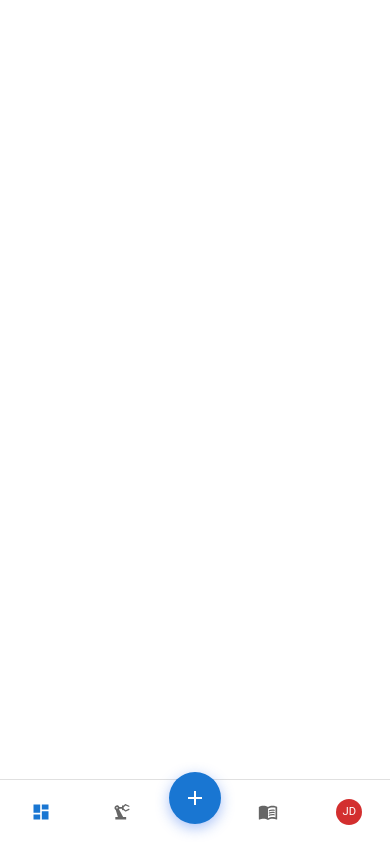
Test case: BottomNav › pages demoted into the account sheet › adds no menu entries when nothing was demoted
Click the button with aria-label "open account menu" at (349, 812), box x1=308 y1=780 x2=389 y2=843
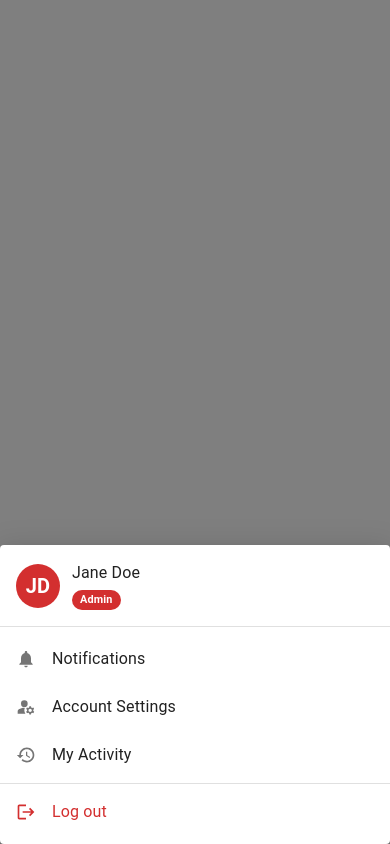
Now the text "Account Settings" is shown, box x1=52 y1=697 x2=176 y2=716
